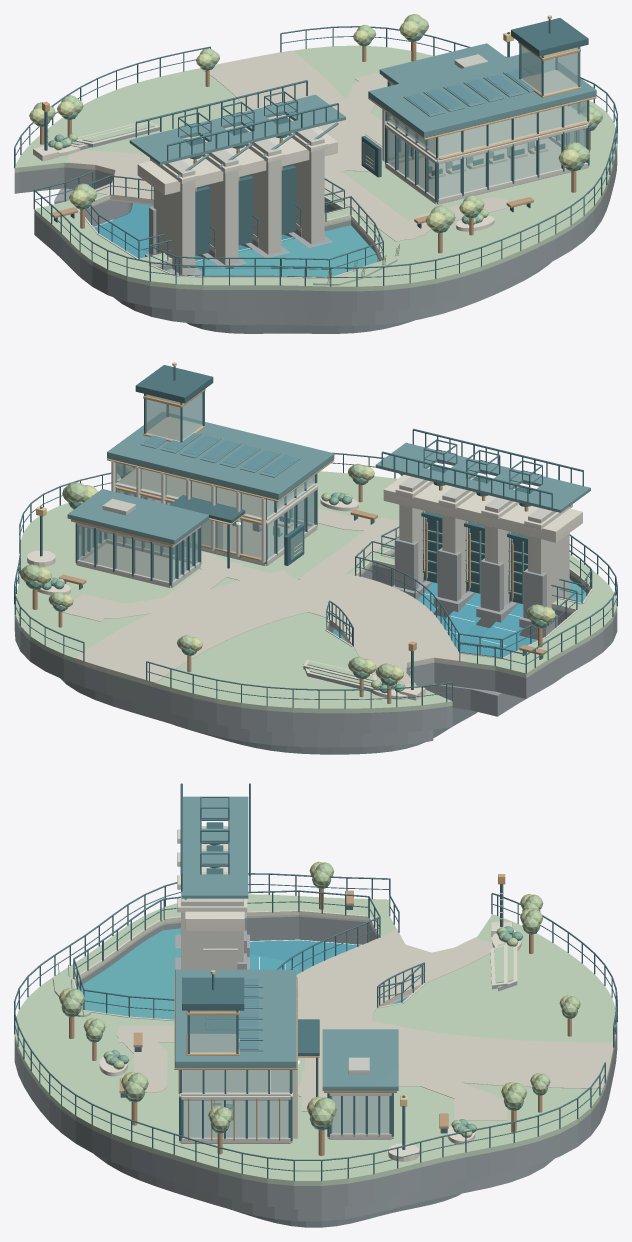
File: flood-control-g.glb
The picture shows the model from 3 angles, top to bottom: view 1: azimuth 30°, elevation 25°; view 2: azimuth 150°, elevation 25°; view 3: azimuth 270°, elevation 25°; orthographic projection. The views are drawn at different scales.
Parts seen in each view (by area): view 1: Terrain_Foundation_Components__green, Terrain_Foundation_Components__rock, Terrain_Foundation_Components__floor, Triple_Sluice_Mechanics_Components__concrete, Command_Centre_Components__steel_lite, Walkways_Railings_Components__steel, Command_Centre_Components__glass2, Command_Centre_Components__floor, Triple_Sluice_Mechanics_Components__steel_lite, Triple_Sluice_Mechanics_Components__steel, Command_Centre_Components__steel, Hydraulic_Water_Components__water_upper (+22 smaller); view 2: Terrain_Foundation_Components__green, Terrain_Foundation_Components__floor, Terrain_Foundation_Components__rock, Command_Centre_Components__steel_lite, Walkways_Railings_Components__steel, Command_Centre_Components__glass2, Command_Centre_Components__steel, Triple_Sluice_Mechanics_Components__steel_lite, Triple_Sluice_Mechanics_Components__concrete, Command_Centre_Components__floor, Triple_Sluice_Mechanics_Components__concrete_shadow, Triple_Sluice_Mechanics_Components__concrete2 (+21 smaller); view 3: Terrain_Foundation_Components__green, Terrain_Foundation_Components__floor, Terrain_Foundation_Components__rock, Command_Centre_Components__steel_lite, Walkways_Railings_Components__steel, Command_Centre_Components__floor, Command_Centre_Components__glass, Triple_Sluice_Mechanics_Components__steel_lite, Hydraulic_Water_Components__water_upper, Command_Centre_Components__steel, Riparian_Landscape_Components__leaf2, Triple_Sluice_Mechanics_Components__concrete (+17 smaller).
Part boxes in pixels (box(x1,y1,x2,y2)): Terrain_Foundation_Components__green: box(14, 45, 617, 291); Terrain_Foundation_Components__rock: box(14, 145, 617, 325); Terrain_Foundation_Components__floor: box(68, 50, 508, 241); Triple_Sluice_Mechanics_Components__concrete: box(153, 119, 324, 274); Command_Centre_Components__steel_lite: box(368, 43, 596, 138); Walkways_Railings_Components__steel: box(14, 26, 617, 286); Command_Centre_Components__glass2: box(362, 85, 587, 198); Command_Centre_Components__floor: box(387, 106, 588, 197); Triple_Sluice_Mechanics_Components__steel_lite: box(129, 94, 345, 178); Triple_Sluice_Mechanics_Components__steel: box(135, 80, 338, 255); Command_Centre_Components__steel: box(385, 18, 589, 202); Hydraulic_Water_Components__water_upper: box(165, 225, 378, 276); Terrain_Foundation_Components__green: box(15, 471, 617, 713); Terrain_Foundation_Components__floor: box(62, 504, 467, 686); Terrain_Foundation_Components__rock: box(14, 553, 617, 747); Command_Centre_Components__steel_lite: box(67, 412, 334, 544); Walkways_Railings_Components__steel: box(14, 439, 617, 708); Command_Centre_Components__glass2: box(78, 462, 313, 581); Command_Centre_Components__steel: box(75, 365, 317, 585); Triple_Sluice_Mechanics_Components__steel_lite: box(375, 442, 590, 603); Triple_Sluice_Mechanics_Components__concrete: box(399, 465, 569, 607); Command_Centre_Components__floor: box(83, 469, 315, 580); Triple_Sluice_Mechanics_Components__concrete_shadow: box(392, 537, 576, 639); Triple_Sluice_Mechanics_Components__concrete2: box(383, 474, 582, 590); Terrain_Foundation_Components__green: box(14, 894, 617, 1185); Terrain_Foundation_Components__floor: box(116, 929, 613, 1120); Terrain_Foundation_Components__rock: box(14, 916, 617, 1221); Command_Centre_Components__steel_lite: box(175, 969, 398, 1090); Walkways_Railings_Components__steel: box(14, 796, 617, 1181); Command_Centre_Components__floor: box(181, 1070, 389, 1136); Command_Centre_Components__glass: box(183, 1070, 389, 1137); Triple_Sluice_Mechanics_Components__steel_lite: box(181, 796, 248, 900); Hydraulic_Water_Components__water_upper: box(78, 928, 180, 1019); Command_Centre_Components__steel: box(179, 974, 393, 1140); Riparian_Landscape_Components__leaf2: box(53, 862, 580, 1137); Triple_Sluice_Mechanics_Components__concrete: box(181, 826, 243, 969).
Bounding box in the file's own units: 38.89 × 16.72 × 34.55.
